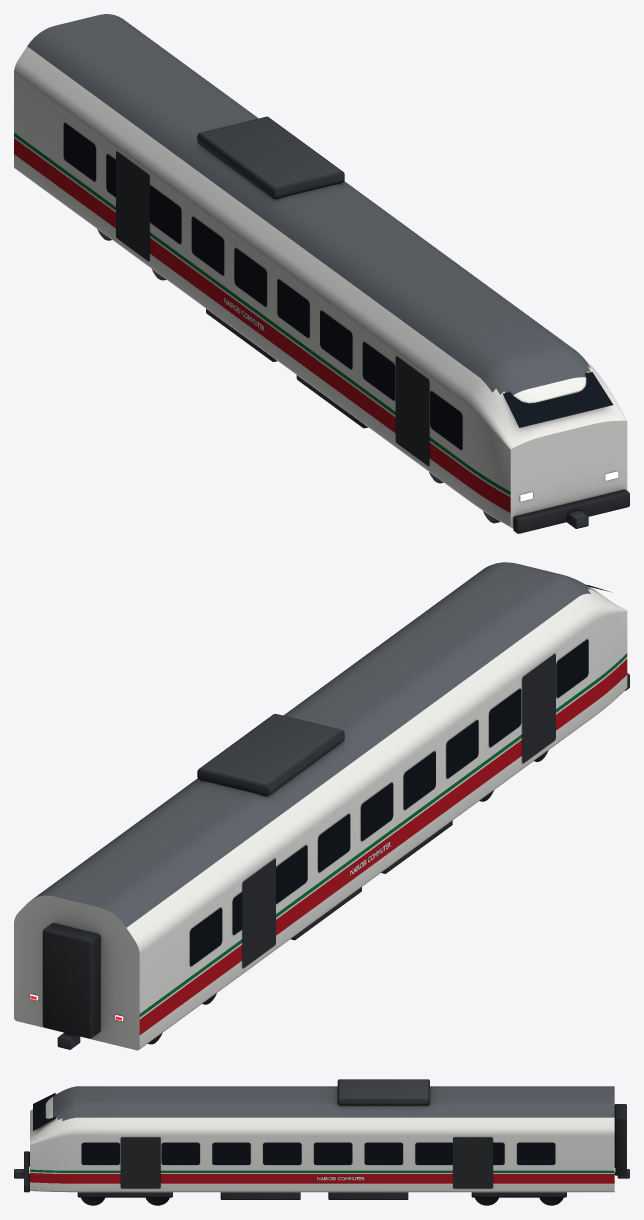
Rendered from train_commuter.glb.
3 renders of one model, top to bottom at view 1: azimuth 30°, elevation 25°; view 2: azimuth 150°, elevation 25°; view 3: azimuth 270°, elevation 25°, orthographic. The views are drawn at different scales.
Visible parts, largest first — view 1: body, glass; view 2: body, glass; view 3: body, glass.
Boxes of the visible parts, <box> form: body: <box>14,14,629,533</box>; glass: <box>63,123,613,449</box>; body: <box>14,562,629,1050</box>; glass: <box>190,585,611,966</box>; body: <box>14,1079,629,1205</box>; glass: <box>33,1093,555,1164</box>.
Bounding box in the file's own units: 2.82 × 3.92 × 20.02.
Materials: 12 (9 with a texture image).
